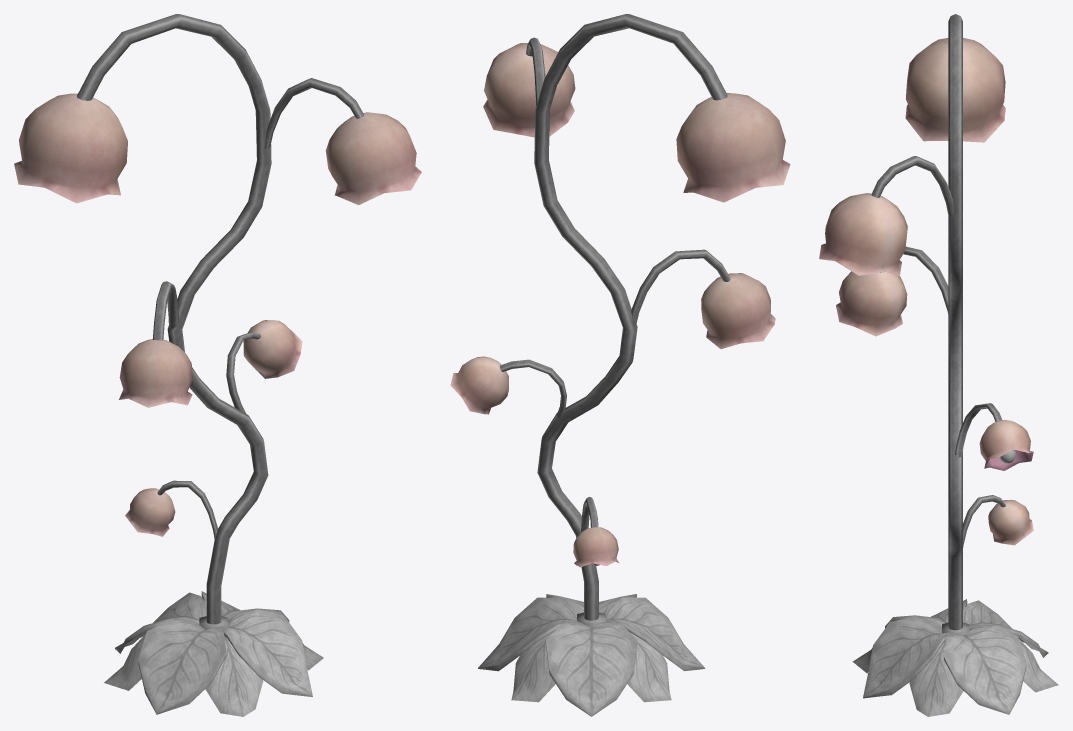
The model's file is joyobject.fbx.
3 renders of one model, left to right at view 1: azimuth 30°, elevation 25°; view 2: azimuth 150°, elevation 25°; view 3: azimuth 270°, elevation 25°, orthographic. The views are drawn at different scales.
Visible parts, largest first — view 1: joyobject; view 2: joyobject; view 3: joyobject.
Boxes of the visible parts, box(x1,y1,x2,y2) form: joyobject: box(14, 14, 421, 716); joyobject: box(450, 14, 790, 716); joyobject: box(819, 14, 1058, 716).
Size of the model in its own units: 314 by 575 by 200.
